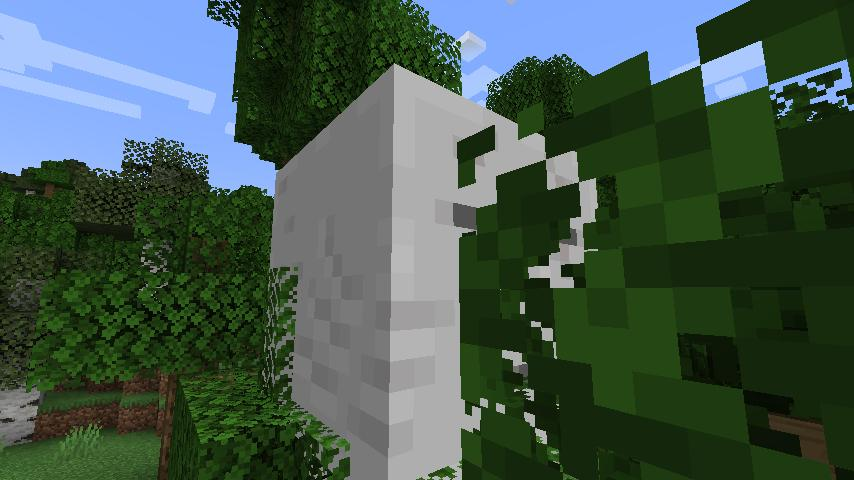ghast: (274, 60, 594, 480)
